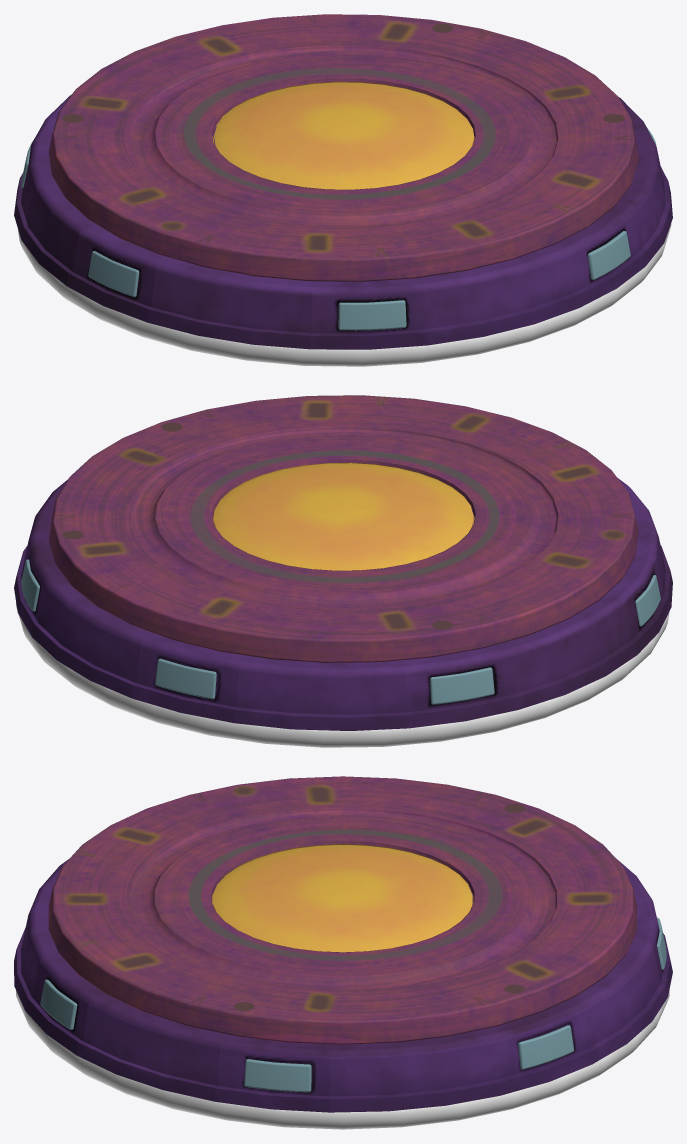
Rendered from Ships.fbx.
3 views of the same model, one above another, from view 1: azimuth 30°, elevation 25°; view 2: azimuth 150°, elevation 25°; view 3: azimuth 270°, elevation 25° (orthographic).
Parts seen in each view (by area): view 1: ship, glow_light, BS_05, BS_06, BS_04, BS_07; view 2: ship, glow_light, BS_03, BS_04, BS_02, BS_05, BS_01; view 3: ship, glow_light, BS_01, BS_07, BS_02, BS_06.
Boxes of the visible parts, <box> form: ship: <box>14,14,671,366</box>; glow_light: <box>21,82,656,330</box>; BS_05: <box>147,257,314,349</box>; BS_06: <box>419,244,579,345</box>; BS_04: <box>14,162,96,285</box>; BS_07: <box>613,141,672,265</box>; ship: <box>14,395,671,747</box>; glow_light: <box>21,463,660,704</box>; BS_03: <box>234,655,408,730</box>; BS_04: <box>499,595,637,709</box>; BS_02: <box>32,579,154,698</box>; BS_05: <box>623,485,672,606</box>; BS_01: <box>16,479,67,575</box>; ship: <box>16,776,672,1129</box>; glow_light: <box>40,845,666,1092</box>; BS_01: <box>329,1029,500,1112</box>; BS_07: <box>76,993,227,1101</box>; BS_02: <box>565,941,667,1063</box>; BS_06: <box>14,886,58,1009</box>.
Bounding box in the file's own units: 1501 × 329 × 1500.
